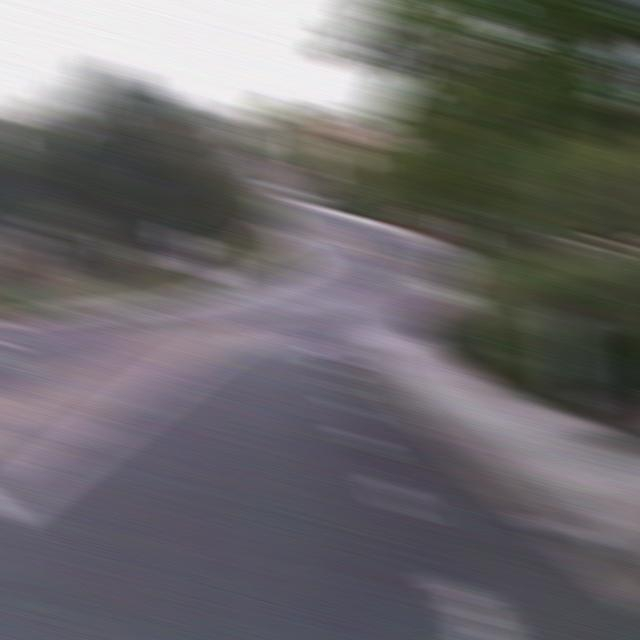stop: (396, 199, 445, 242)
